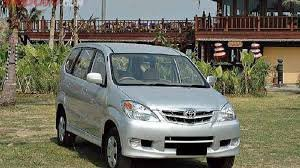mobil: (53, 36, 241, 168)
